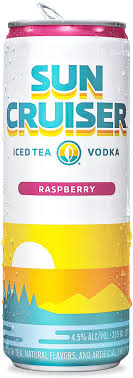can: (2, 1, 133, 376)
